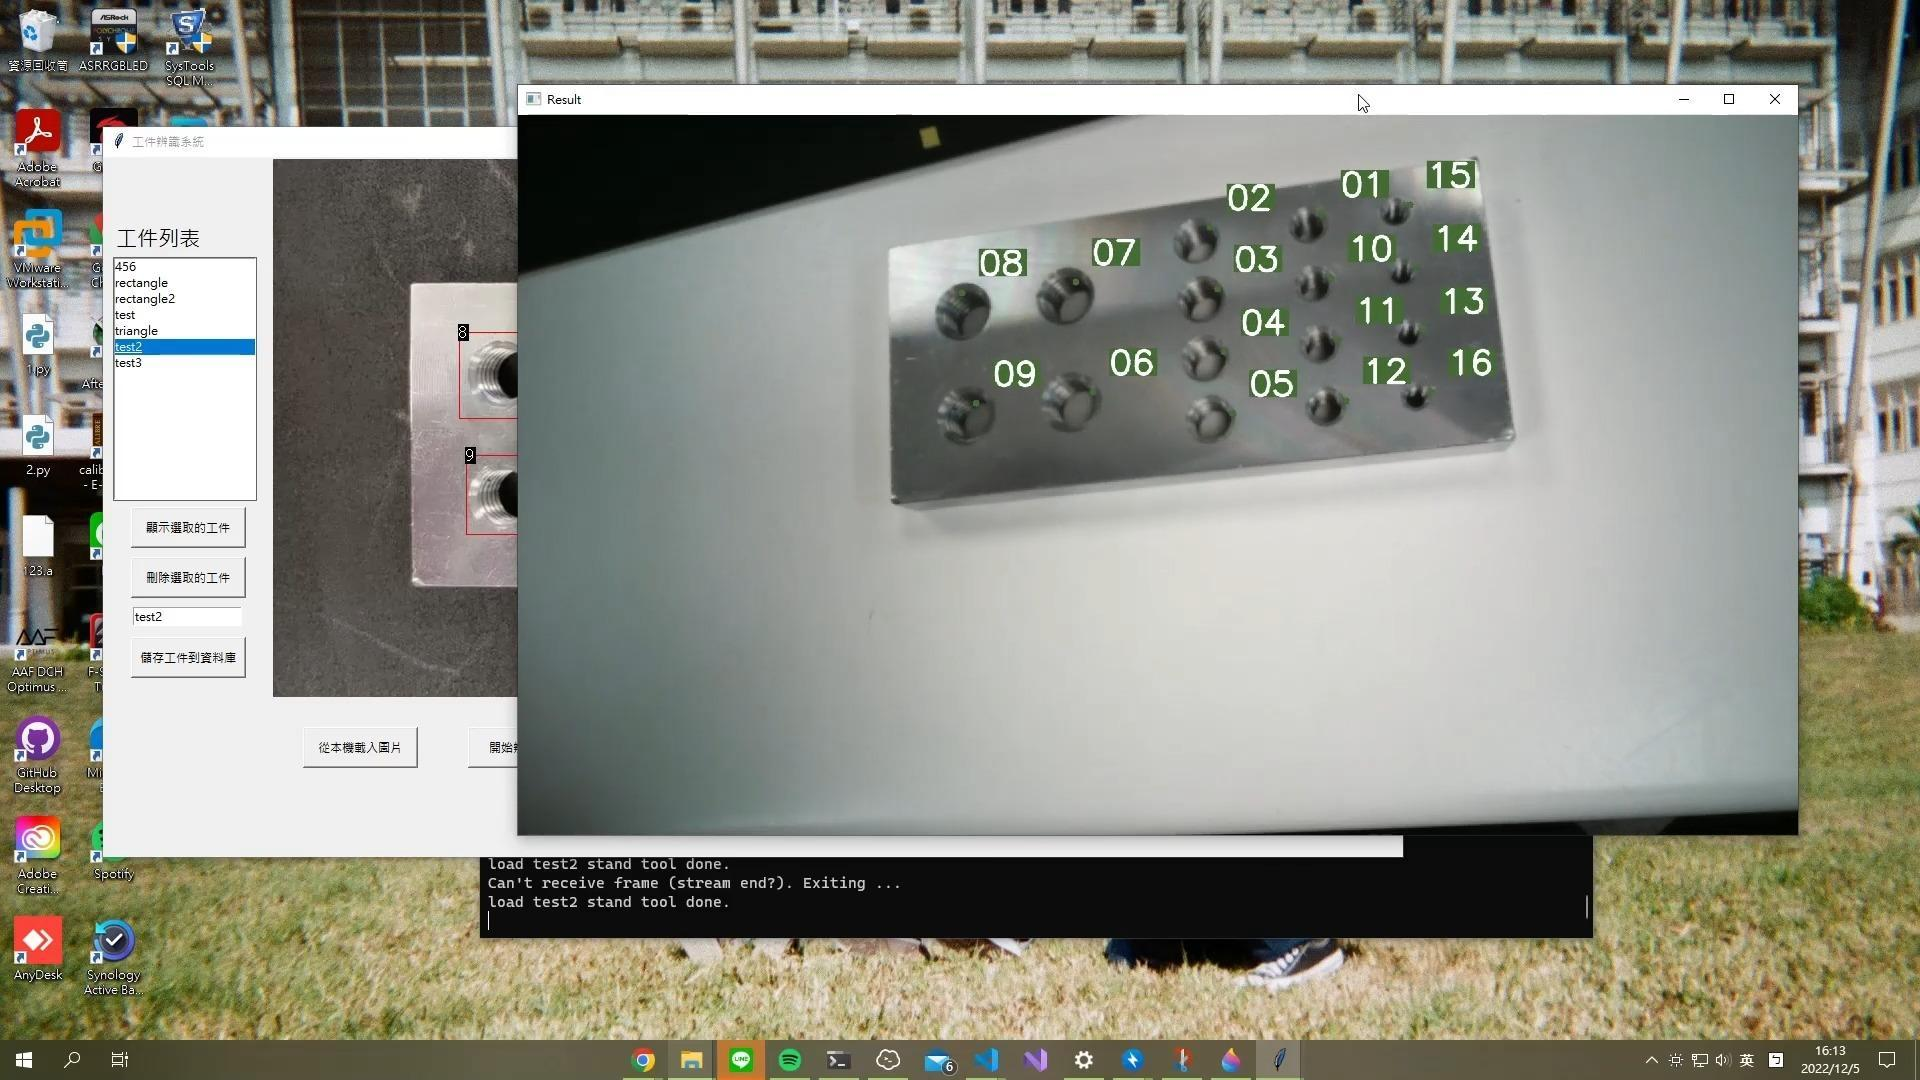hole: (934, 382, 1001, 448), (1029, 268, 1097, 327), (1039, 371, 1101, 433), (932, 285, 996, 345), (468, 336, 518, 409), (464, 469, 521, 531), (1183, 394, 1238, 447), (1182, 334, 1233, 386), (1171, 214, 1221, 266), (1299, 382, 1352, 430), (1175, 276, 1225, 324), (1291, 258, 1333, 302), (1286, 204, 1324, 247), (1300, 326, 1336, 367), (1375, 194, 1415, 229), (1385, 255, 1419, 291), (1400, 380, 1435, 415), (1394, 316, 1423, 347)
